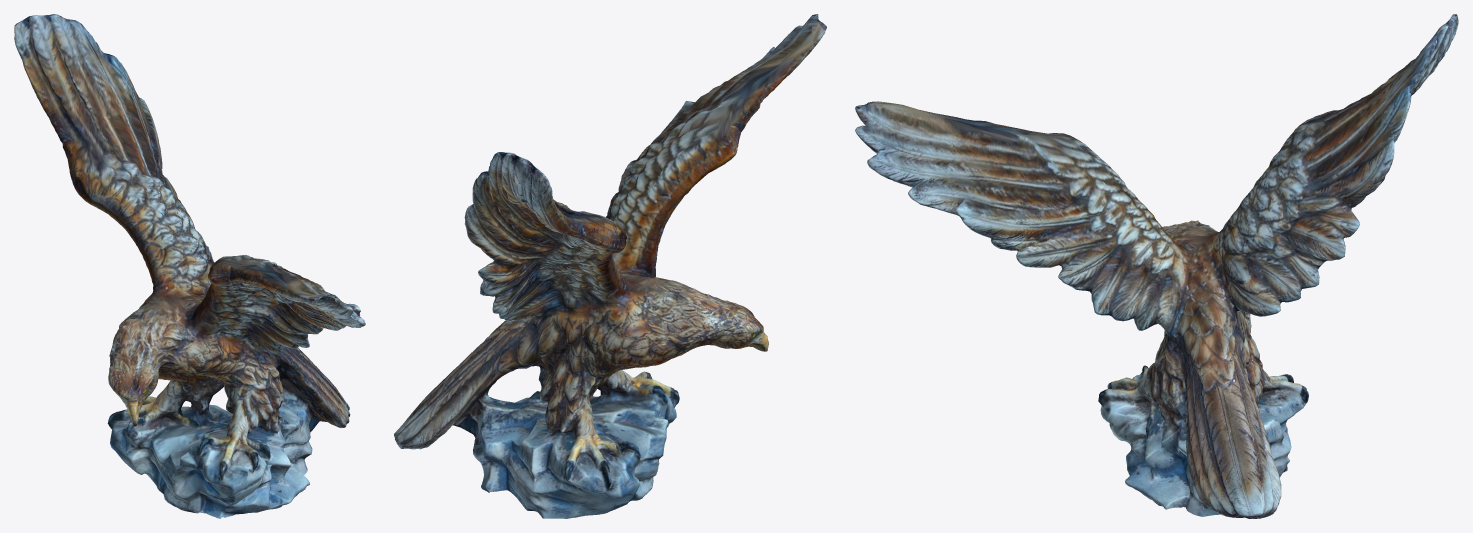
File: eagle.glb
The picture shows the model from 3 angles, left to right: view 1: azimuth 30°, elevation 25°; view 2: azimuth 150°, elevation 25°; view 3: azimuth 270°, elevation 25°; orthographic projection. The views are drawn at different scales.
Visible parts, largest first — view 1: Object_2; view 2: Object_2; view 3: Object_2.
Boxes of the visible parts, bbox=[...] form: Object_2: bbox=[14, 14, 365, 518]; Object_2: bbox=[394, 14, 826, 518]; Object_2: bbox=[855, 14, 1458, 518].
Bounding box in the file's own units: 0.6289 × 0.857 × 1.11.
Materials: 1 (1 with a texture image).
